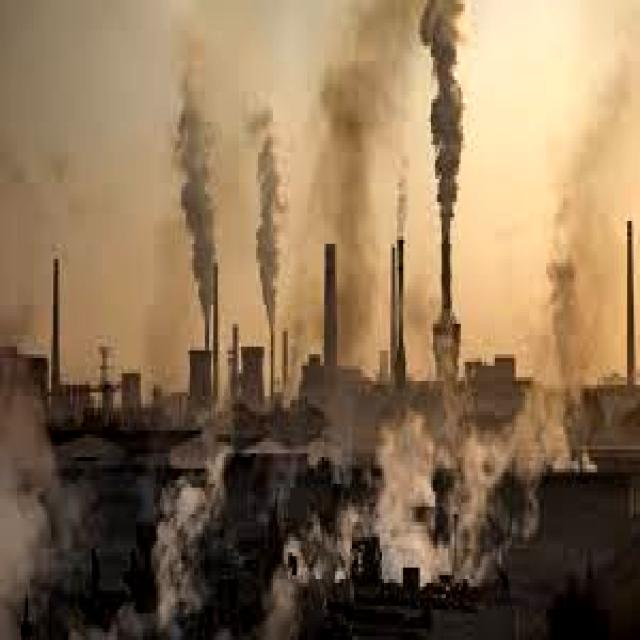Smoke: (350, 389, 584, 559), (178, 64, 300, 349), (546, 66, 632, 418), (0, 353, 70, 640), (393, 0, 471, 240)
